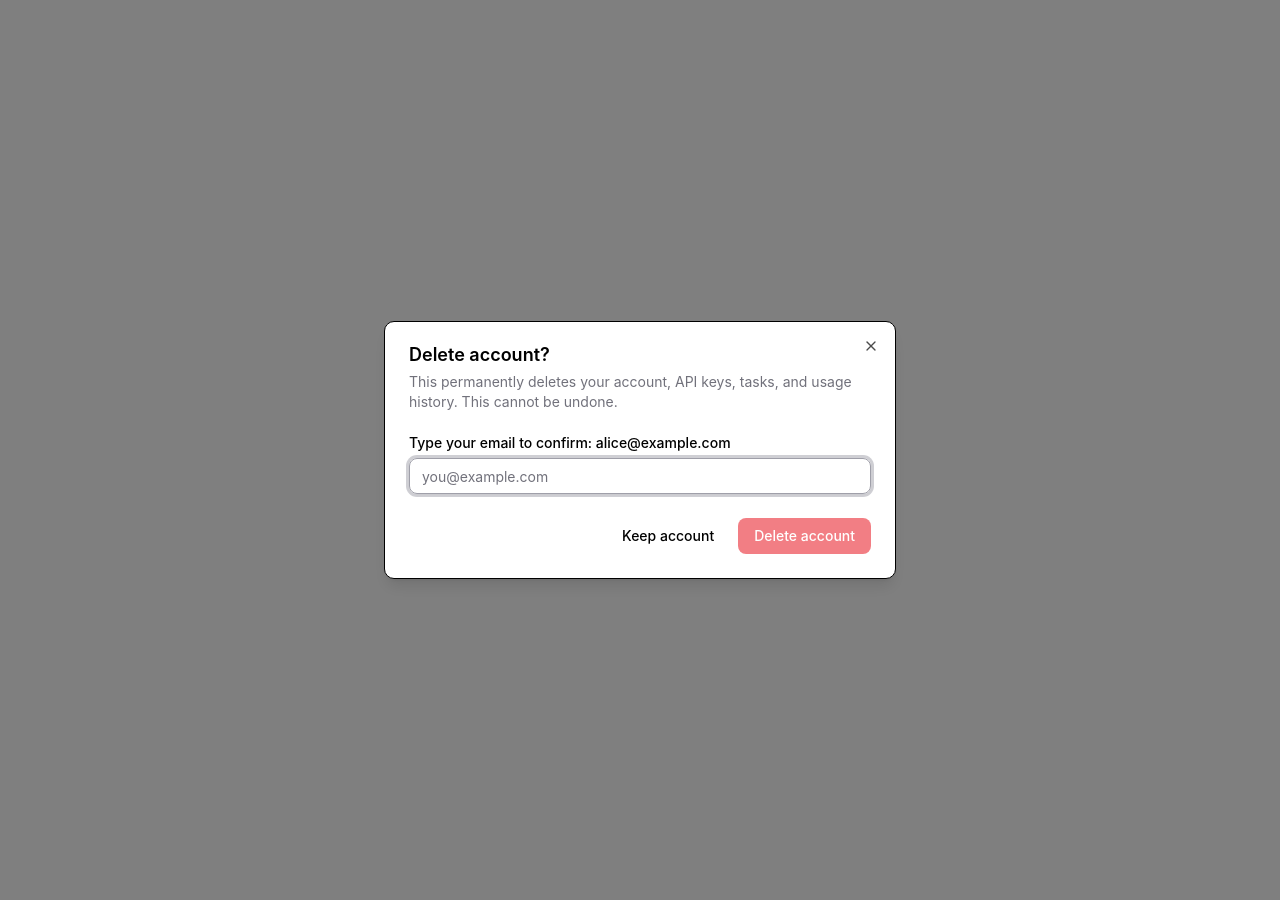
Test: DeleteAccountDialog › 400 from server shows mismatch copy
Type "alice@example.com" into the field labelled "Type your email to confirm: alice@example.com".
click(640, 476); type("alice@example.com")  # box [409,458,871,494]
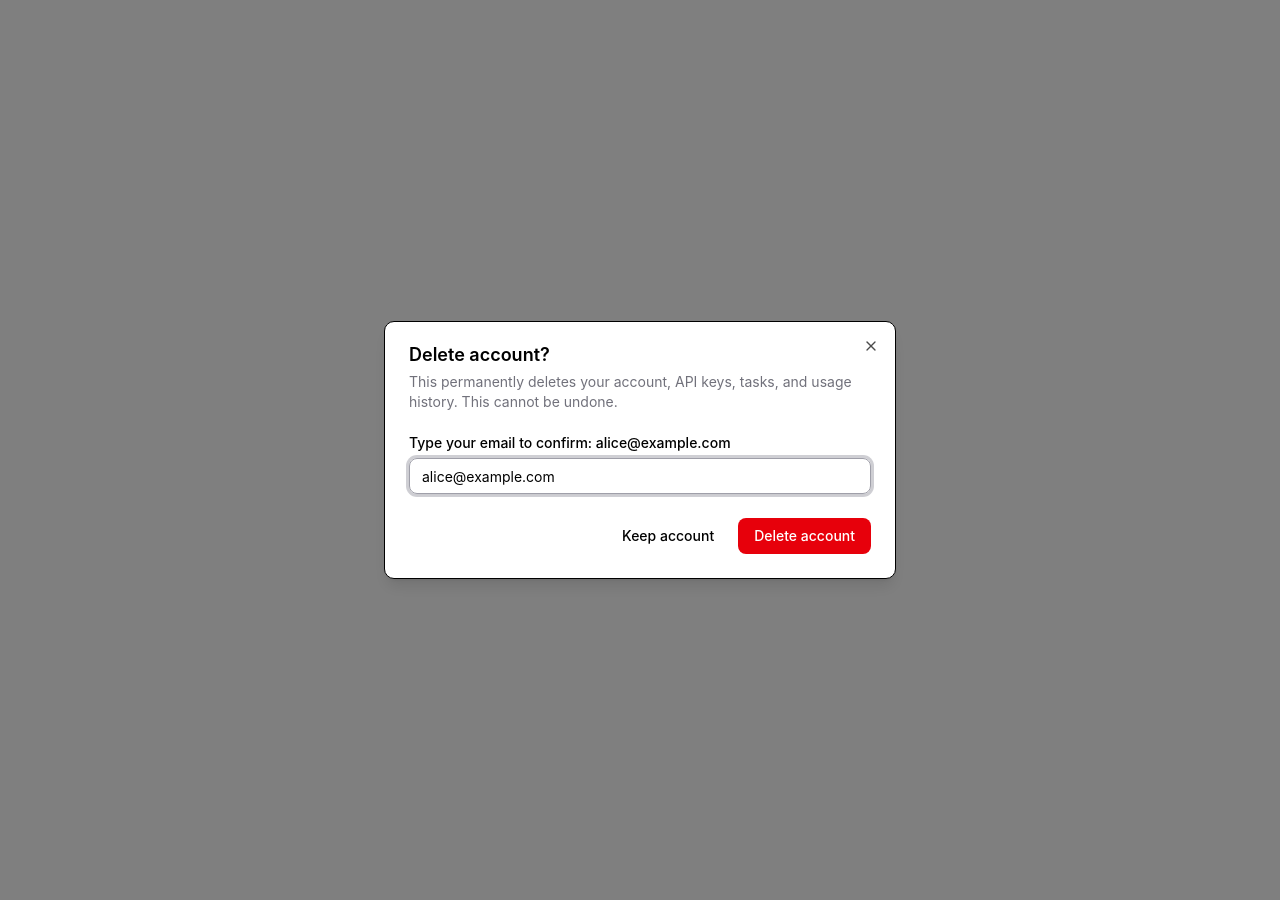
Click the button "Delete account".
click(805, 536)  # box [738,518,871,554]
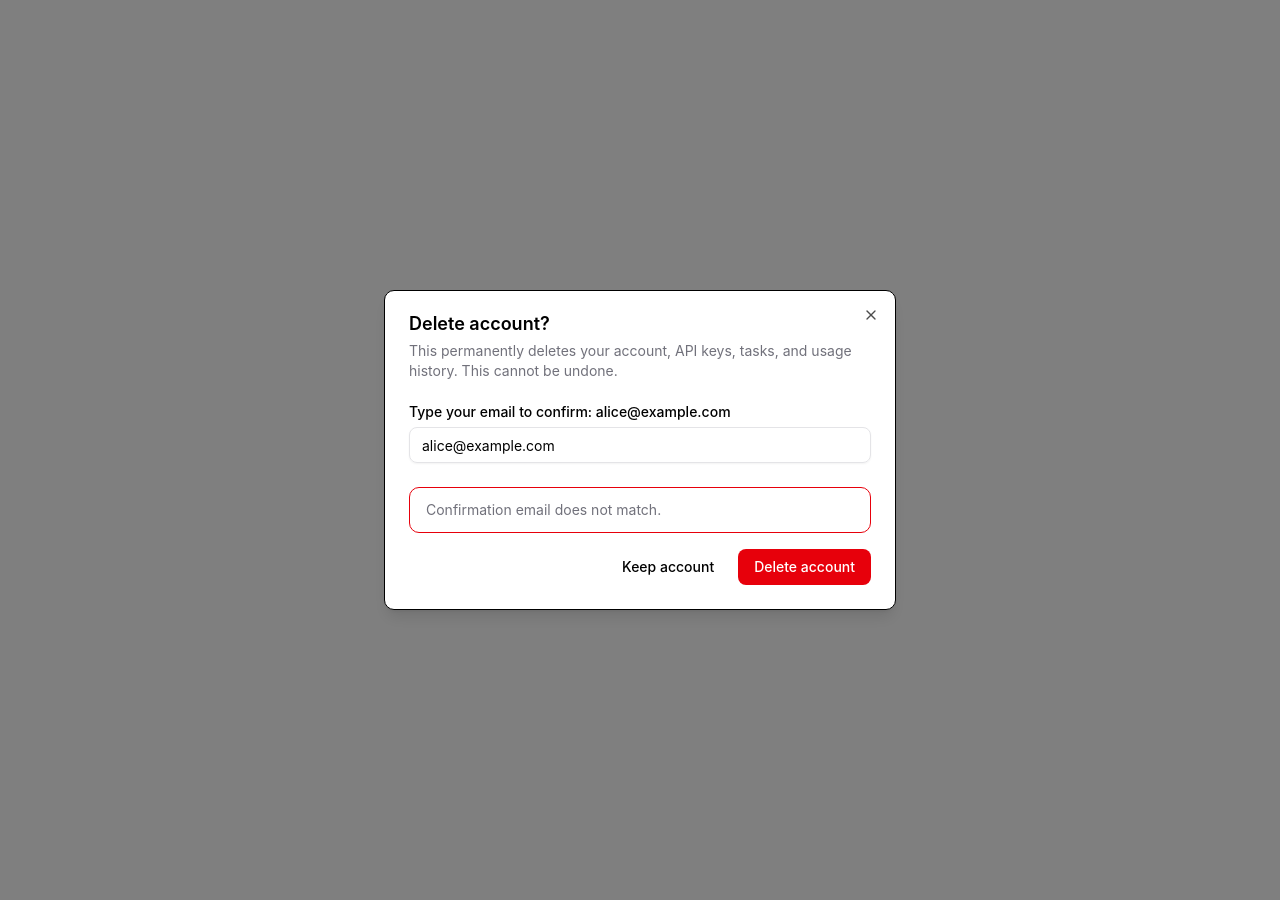
Check: the text "Confirmation email does not match." is shown, box [426,501,661,518]
